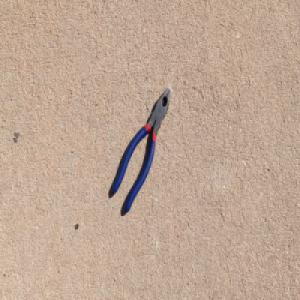Pliers: (110, 84, 172, 214)
